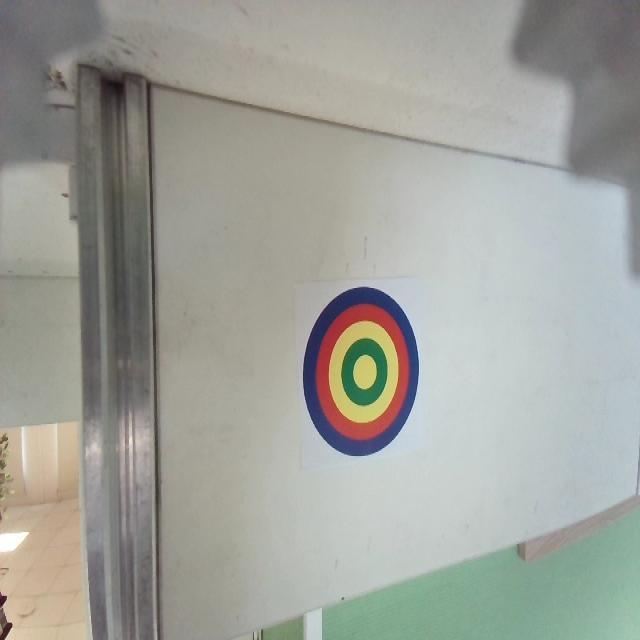cogn: (303, 286, 419, 458)
